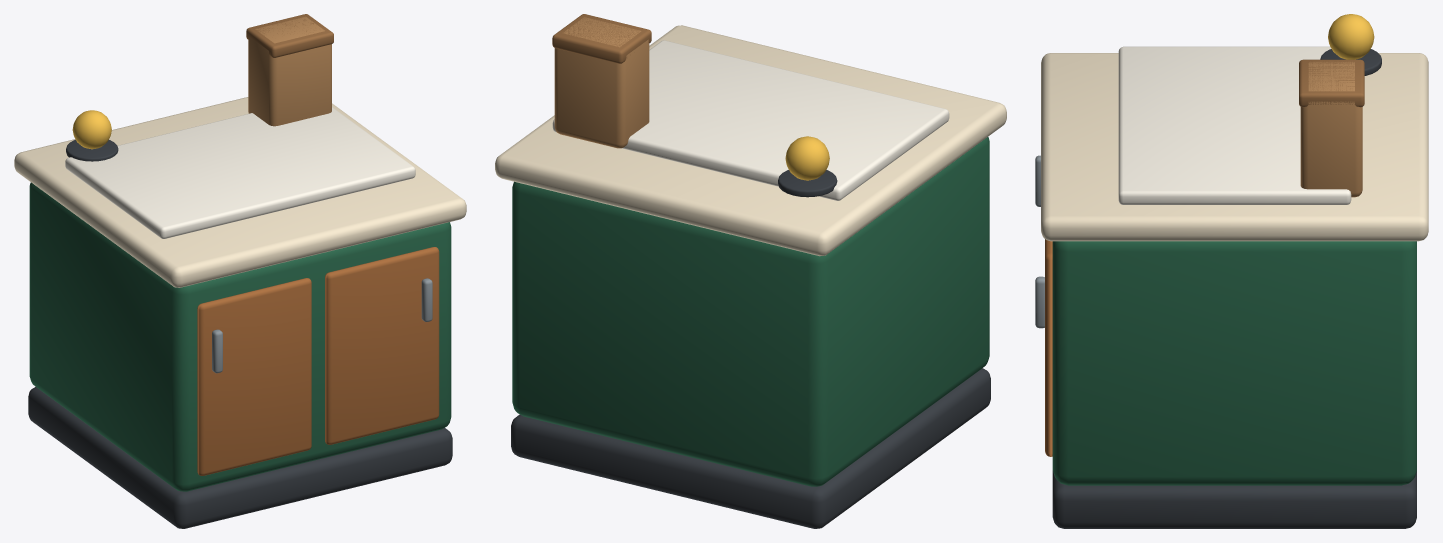
Rendered from st_pickup.glb.
3 renders of one model, left to right at view 1: azimuth 30°, elevation 25°; view 2: azimuth 150°, elevation 25°; view 3: azimuth 270°, elevation 25°, orthographic. The views are drawn at different scales.
Visible parts, largest first — view 1: pickup; view 2: pickup; view 3: pickup.
Part boxes in pixels (left/top/right/bottom): pickup: left=14, top=14, right=466, bottom=528; pickup: left=495, top=14, right=1006, bottom=528; pickup: left=1035, top=14, right=1428, bottom=528.
Size of the model in its own units: 1.04 by 1.22 by 1.02.
Materials: 1 (1 with a texture image).
